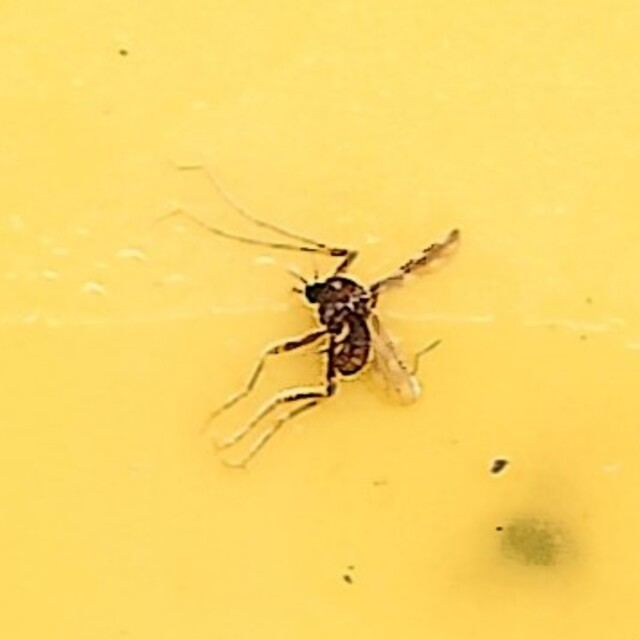Nematocera: (180, 168, 460, 472)
